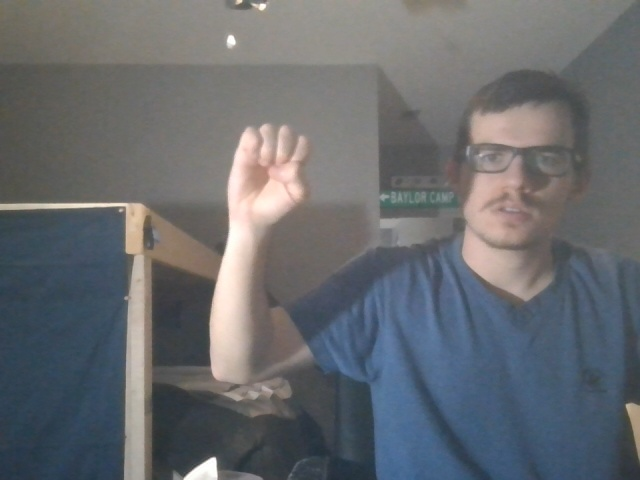E: (222, 117, 331, 223)
